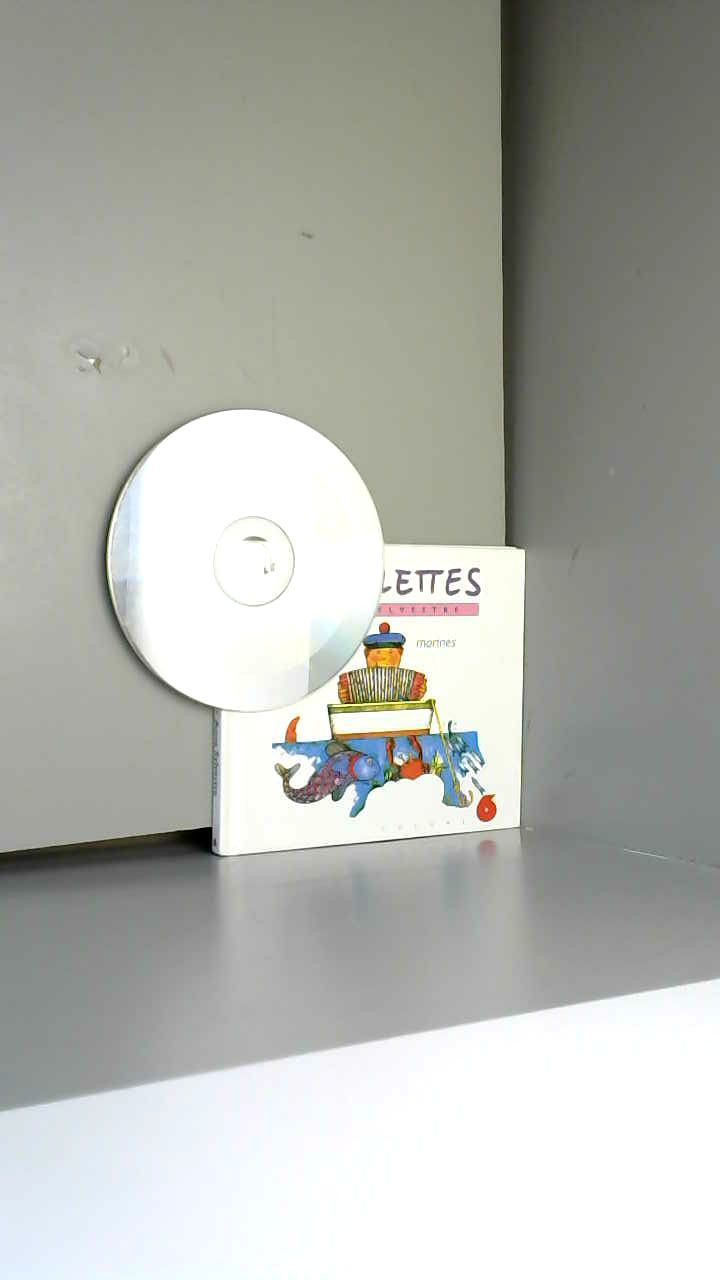book: (79, 382, 573, 900)
